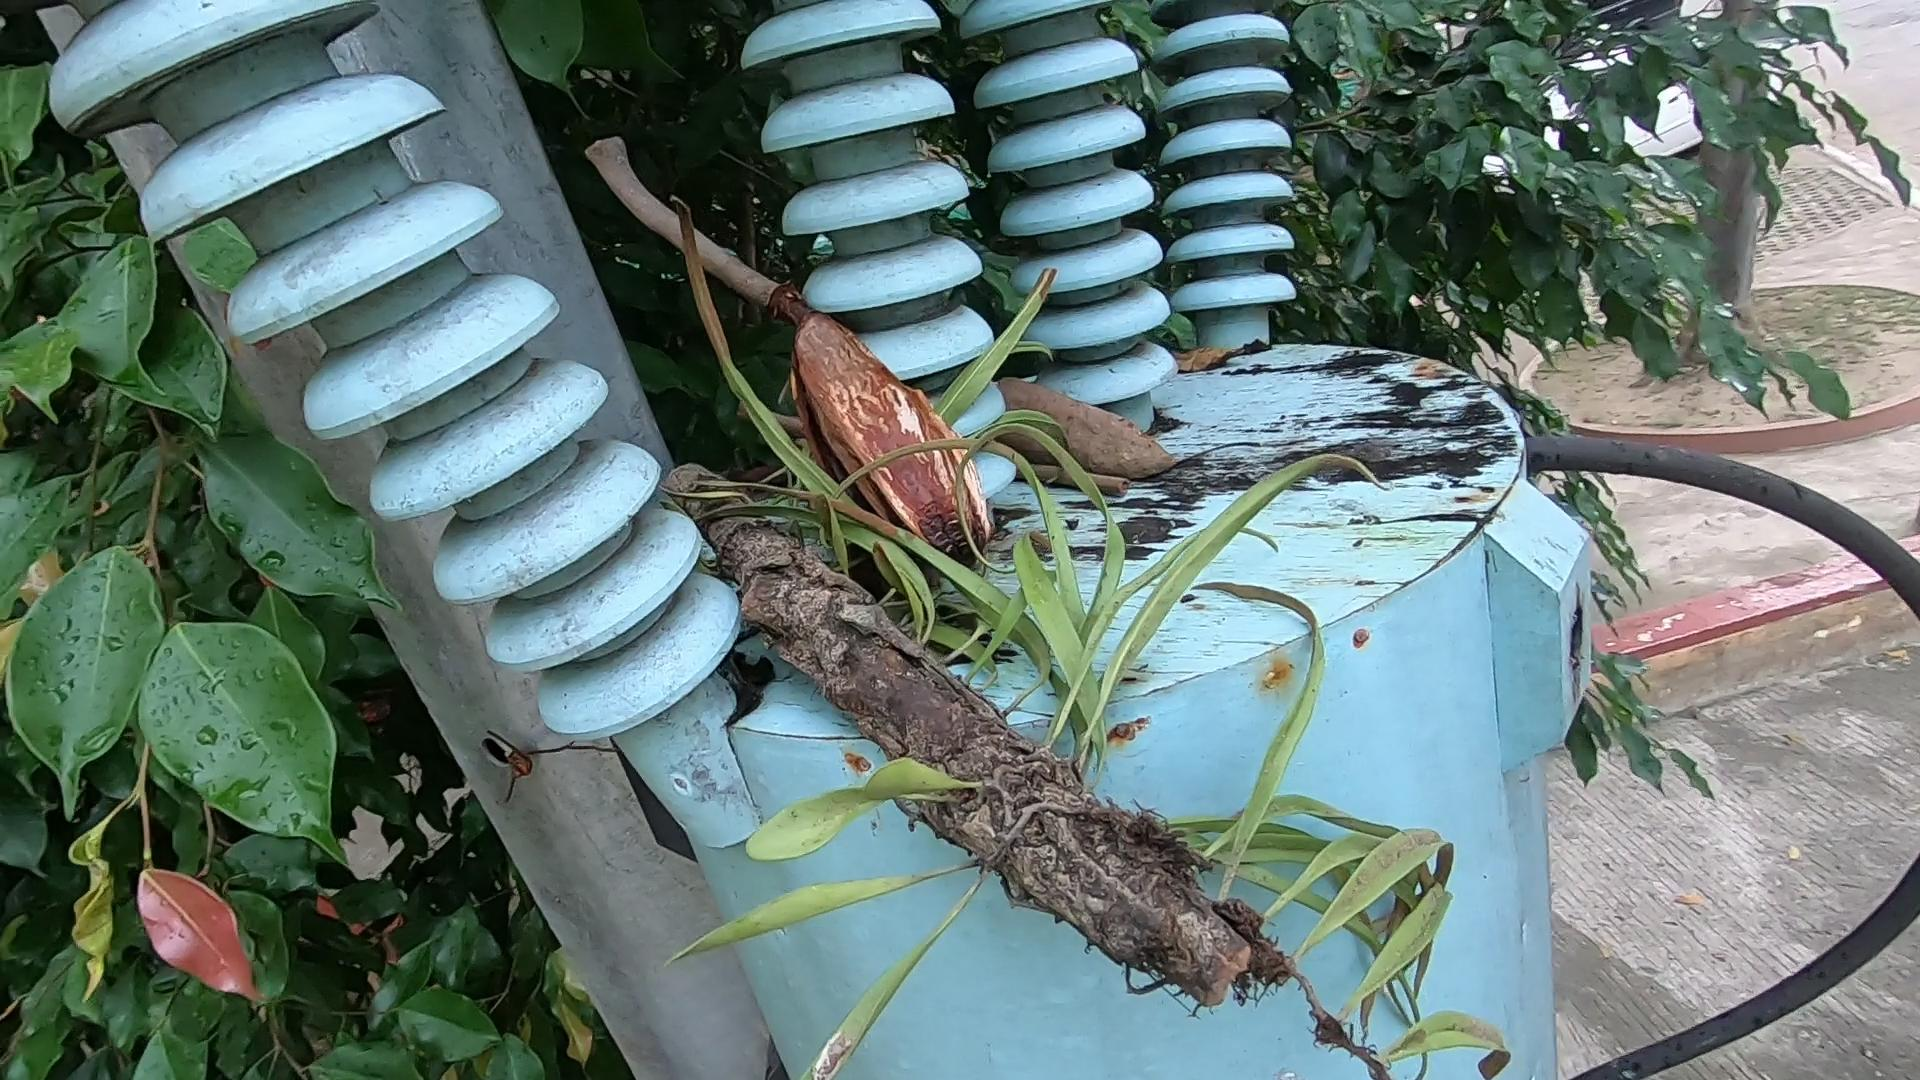branch with leaves: (1018, 438, 1154, 512)
leaf: (760, 502, 1424, 1080), (1153, 328, 1295, 413)
mahogany fruit: (737, 347, 1100, 506), (1011, 390, 1174, 448)
tree branch: (587, 121, 781, 326), (793, 421, 1154, 520)
